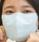with_mask: (1, 2, 39, 42)
